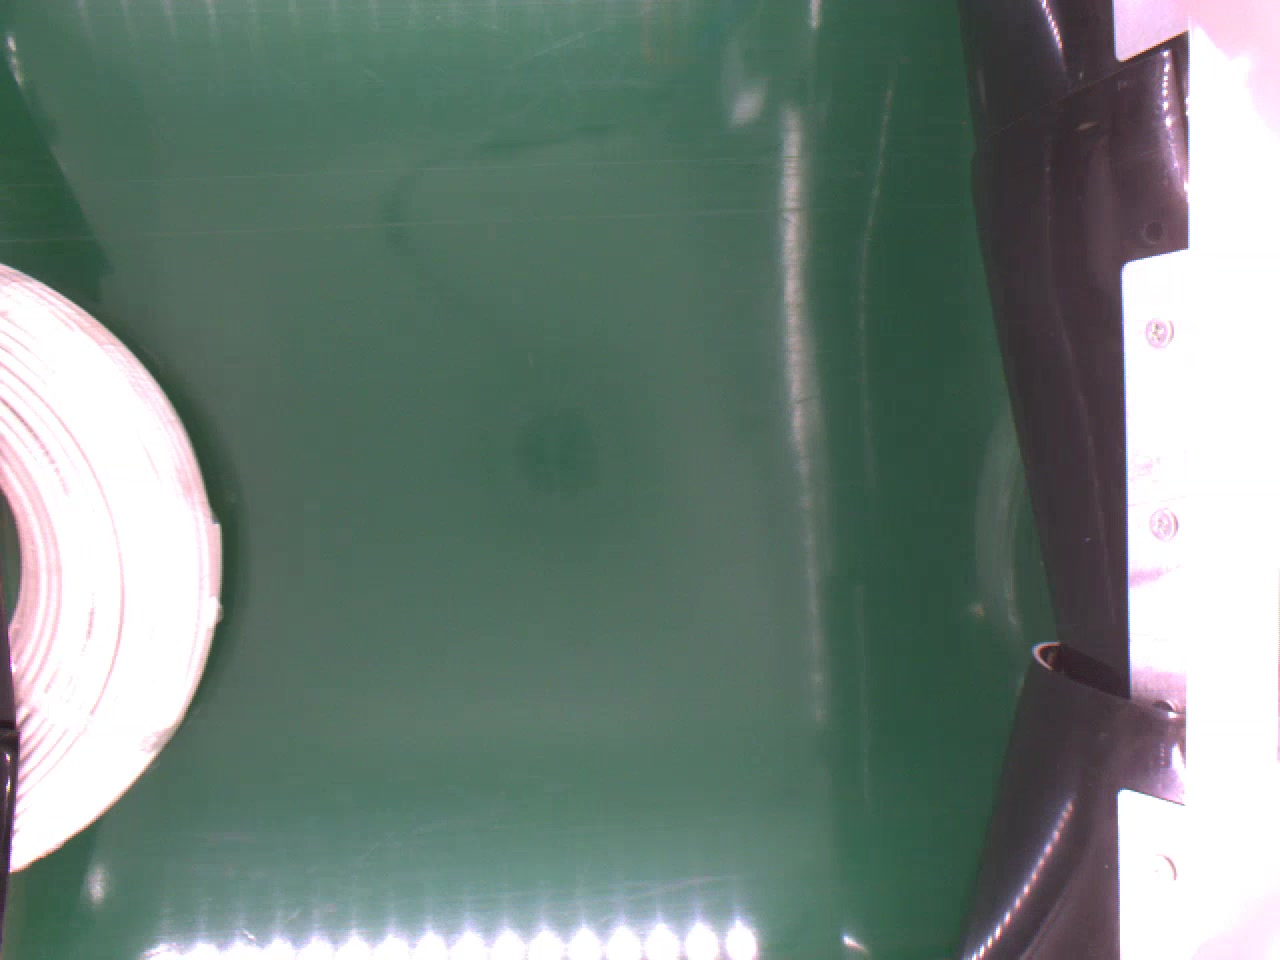white: (0, 259, 219, 872)
